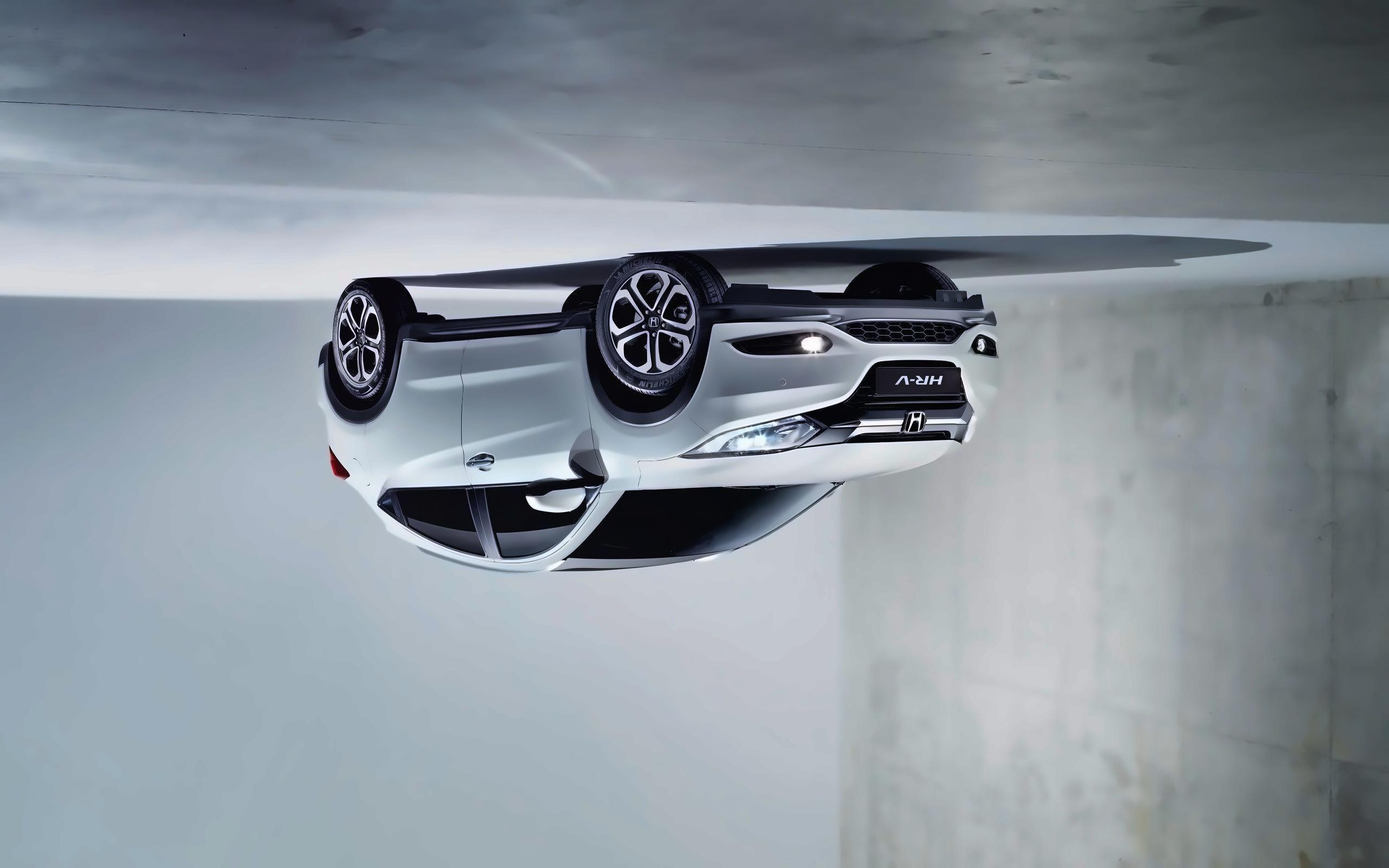Car hood: (634, 434, 958, 488)
Fender - -F-L-: (568, 316, 732, 507)
Fender - -R-L-: (318, 391, 413, 518)
Front bumper: (692, 282, 1007, 431)
Headlight - -L-: (676, 411, 843, 457)
Passenger-s door - -F-L-: (463, 300, 614, 581)
Passenger-s door - -R-L-: (378, 309, 506, 569)
Side bumper - -L-: (389, 290, 604, 376)
Side mirror - -L-: (512, 479, 616, 518)
